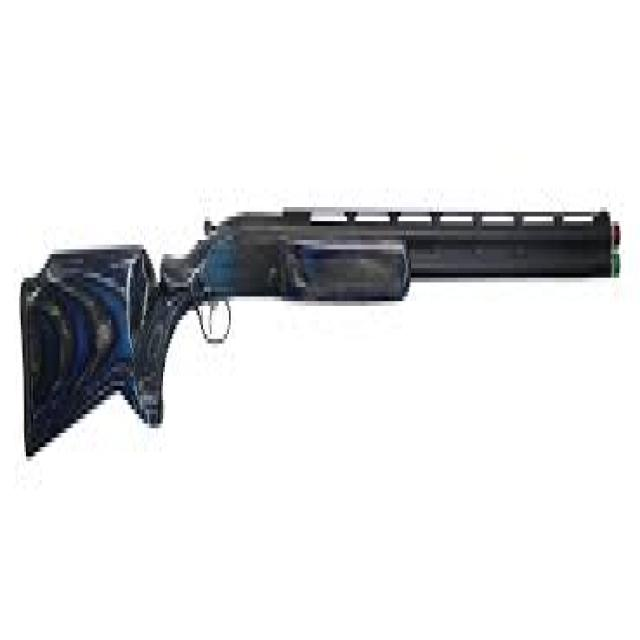rifle: (18, 193, 626, 469)
